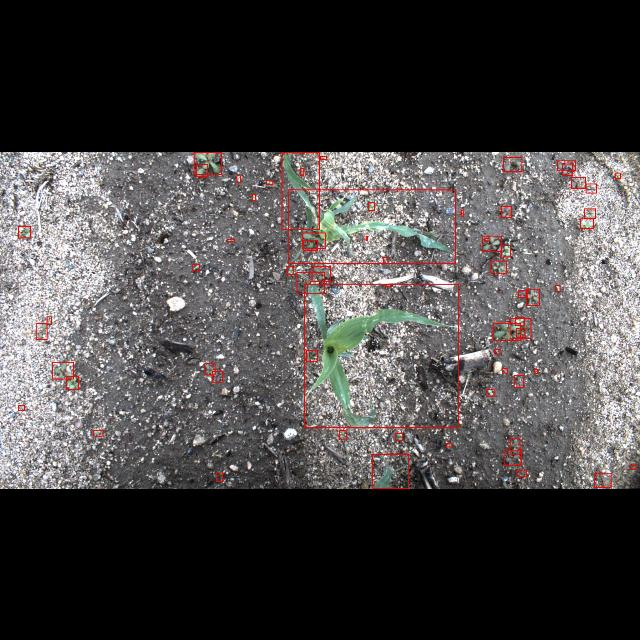crop: (304, 283, 458, 427), (288, 189, 456, 263), (282, 152, 318, 228), (372, 454, 408, 488)
weed: (194, 151, 222, 173), (296, 272, 324, 292), (494, 322, 520, 340), (510, 318, 530, 338), (302, 232, 326, 248), (52, 362, 74, 378), (503, 156, 522, 172), (482, 236, 502, 250), (312, 266, 331, 280), (526, 288, 540, 306), (594, 473, 612, 487), (504, 450, 522, 464), (490, 260, 506, 274), (557, 160, 575, 170), (66, 375, 78, 389), (571, 176, 585, 188), (36, 323, 46, 339), (510, 438, 520, 454), (196, 164, 208, 176), (303, 240, 317, 250), (580, 218, 594, 228), (18, 226, 30, 237), (584, 208, 596, 218), (514, 375, 524, 387), (306, 350, 318, 360), (212, 371, 222, 382), (562, 163, 572, 174), (501, 206, 511, 217), (502, 244, 511, 256), (205, 364, 215, 374), (586, 182, 596, 192), (516, 328, 526, 337), (516, 316, 524, 326), (215, 472, 222, 482), (516, 469, 526, 476), (339, 430, 346, 440), (286, 266, 294, 274), (486, 388, 494, 396), (93, 430, 103, 436), (518, 290, 528, 296), (46, 316, 52, 324), (192, 264, 200, 270), (368, 202, 374, 210), (396, 434, 402, 441), (18, 404, 24, 410), (494, 348, 500, 354), (237, 174, 241, 182), (384, 256, 388, 264), (228, 238, 235, 242), (300, 168, 304, 175), (252, 194, 256, 200), (266, 179, 272, 183), (556, 285, 560, 291), (630, 465, 636, 469), (446, 443, 452, 447), (502, 368, 508, 372), (616, 172, 620, 178), (534, 369, 538, 373), (320, 156, 326, 158), (484, 238, 490, 240), (461, 209, 463, 215), (386, 284, 390, 286), (366, 235, 368, 239)
